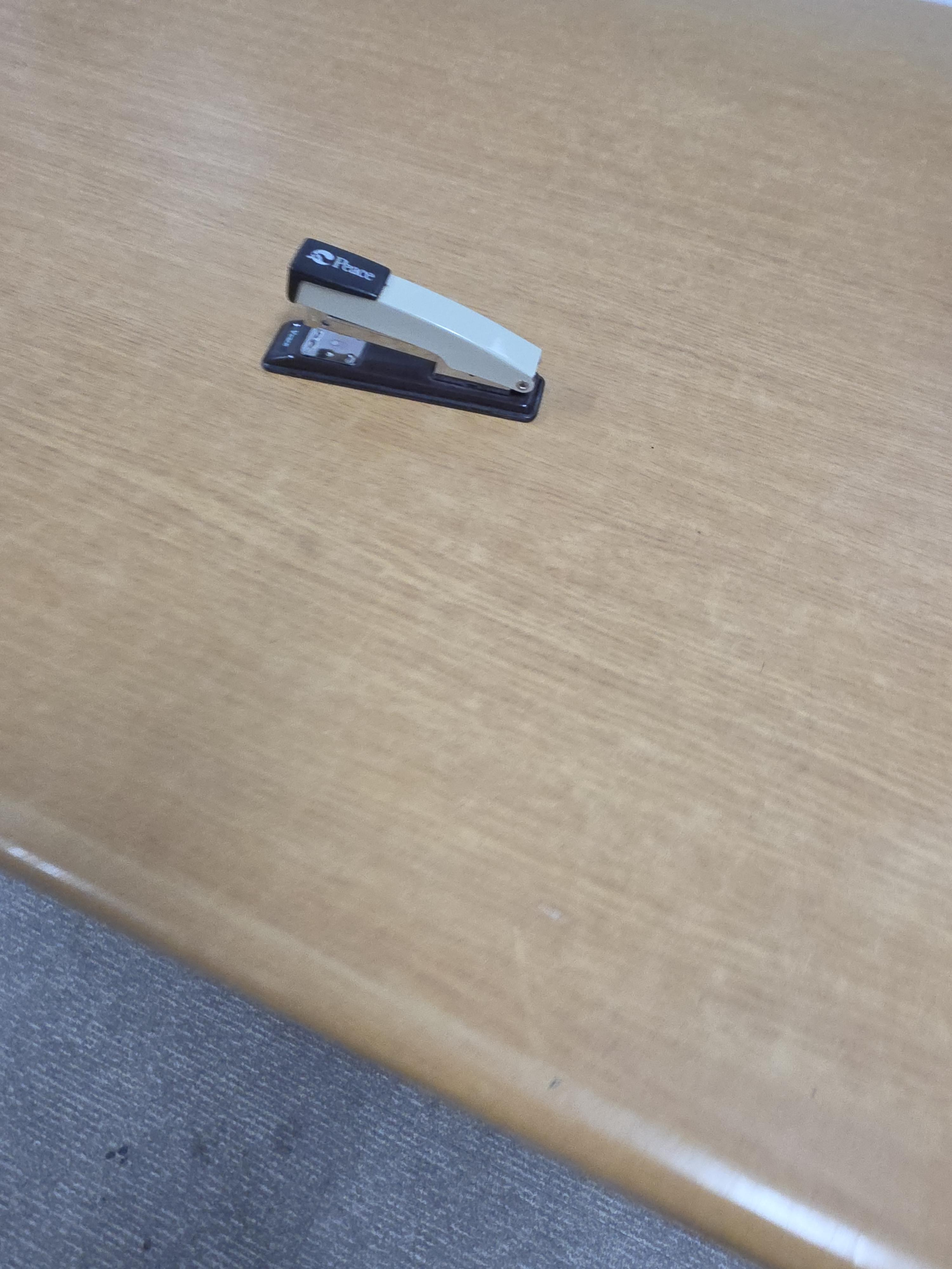stapler: (260, 237, 546, 423)
